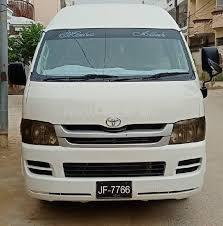van: (19, 1, 210, 202)
